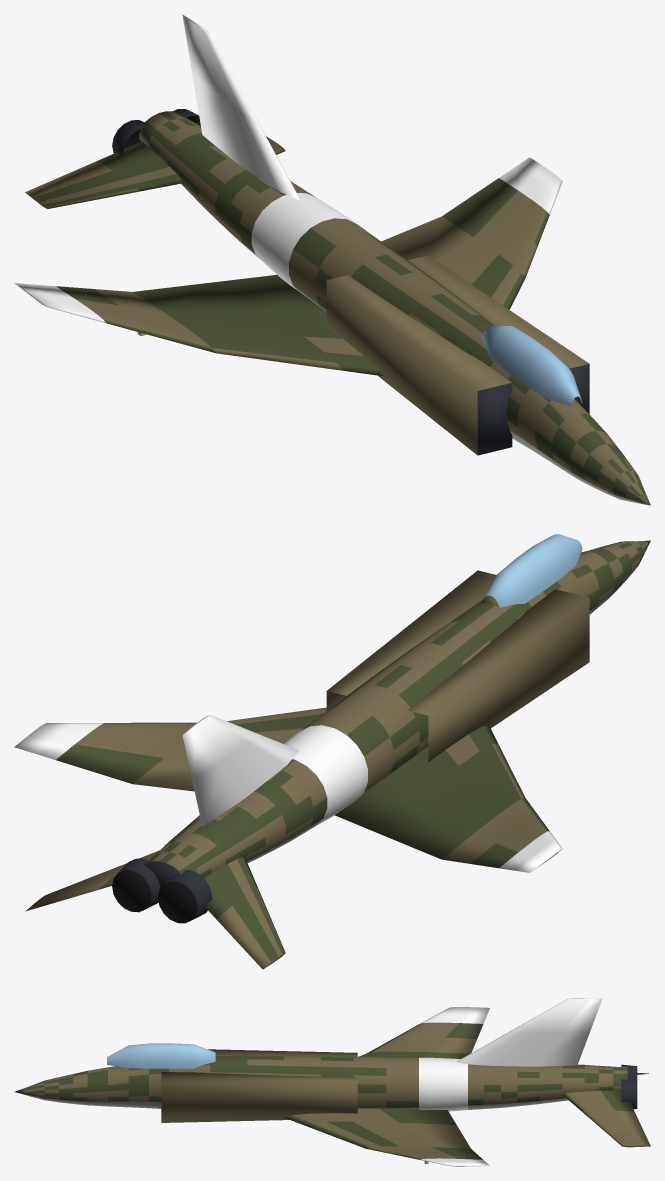
3 views of the same model, one above another, from view 1: azimuth 30°, elevation 25°; view 2: azimuth 150°, elevation 25°; view 3: azimuth 270°, elevation 25° (orthographic). The views are drawn at different scales.
Parts seen in each view (by area): view 1: body; view 2: body; view 3: body.
Part boxes in pixels (x1,y1,x2,y2): body: (14,14,650,505); body: (14,534,650,969); body: (14,998,650,1166).
Size of the model in its own units: 11.7 by 3.9 by 19.93.
